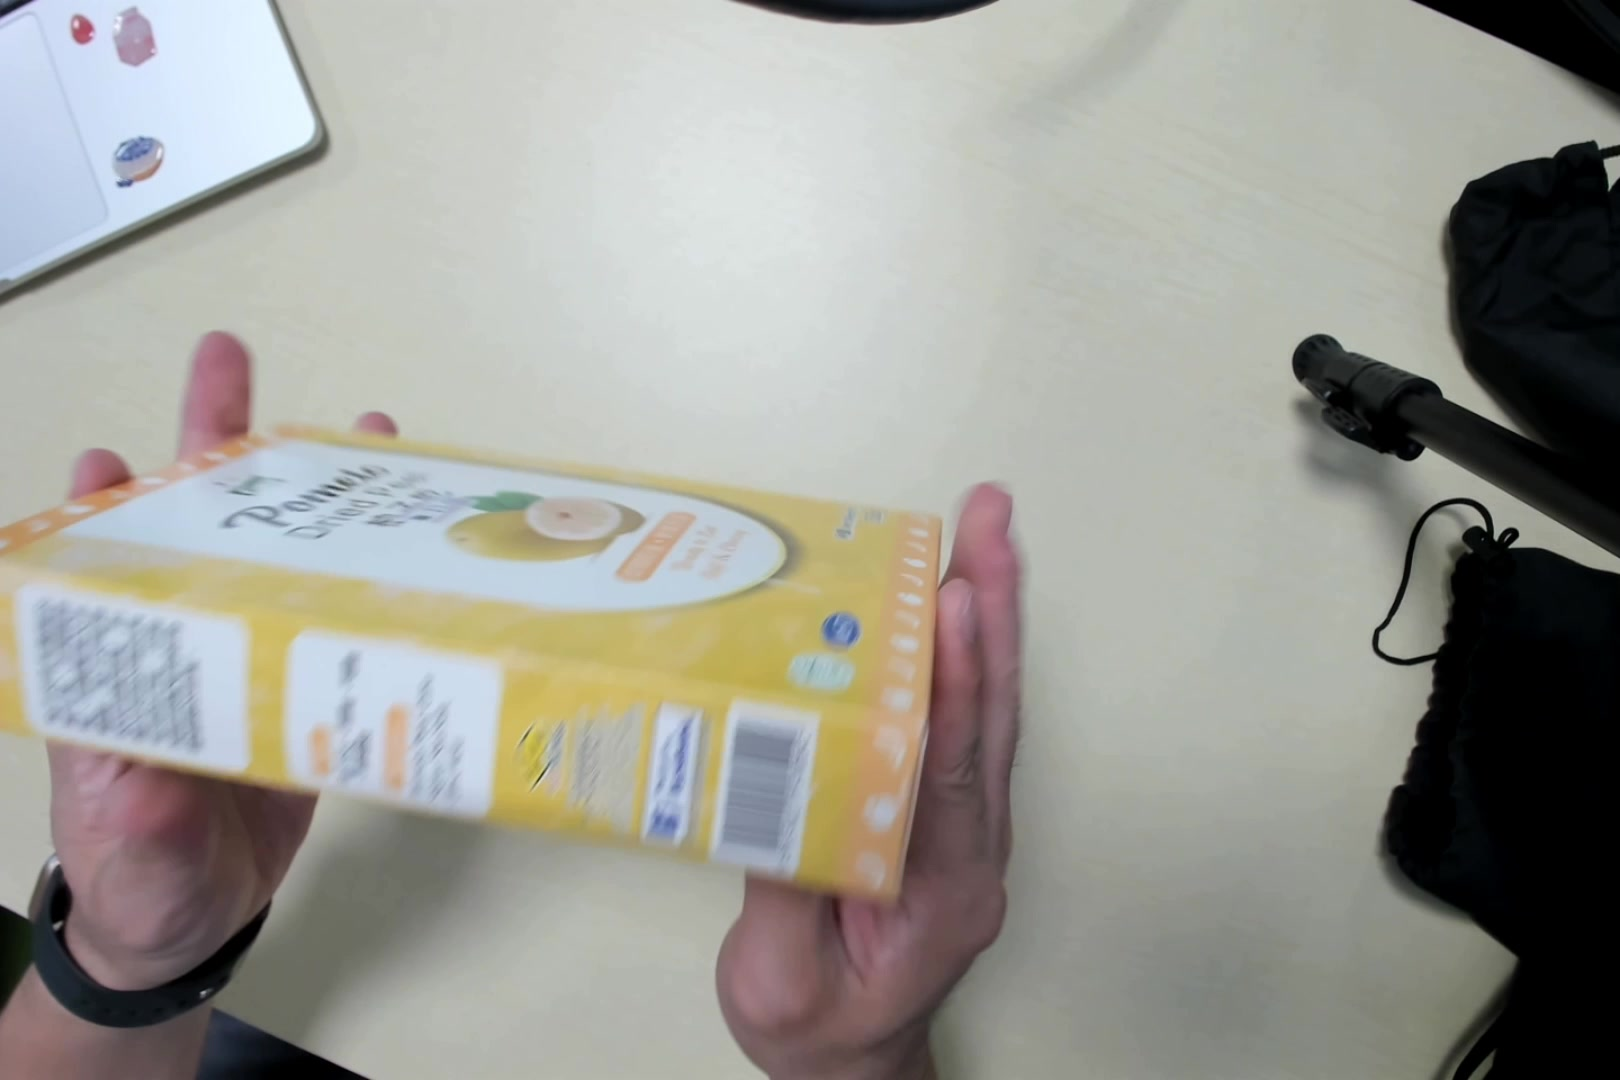DriedVegetables_100-199g_NonHalal_NonHealthy: (2, 419, 944, 905)
